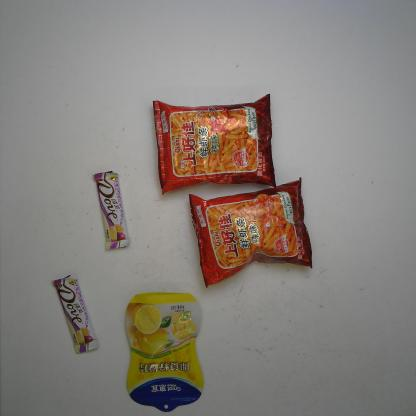Chocolate: (50, 272, 102, 355), (91, 168, 132, 253)
Dried Fruit: (121, 290, 205, 414)
Puffed Food: (184, 175, 314, 288), (148, 89, 278, 195)
